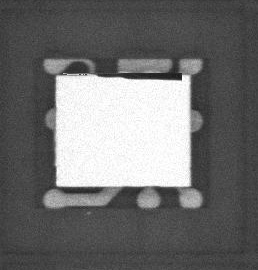DIE_BROKEN: (93, 69, 183, 81)
